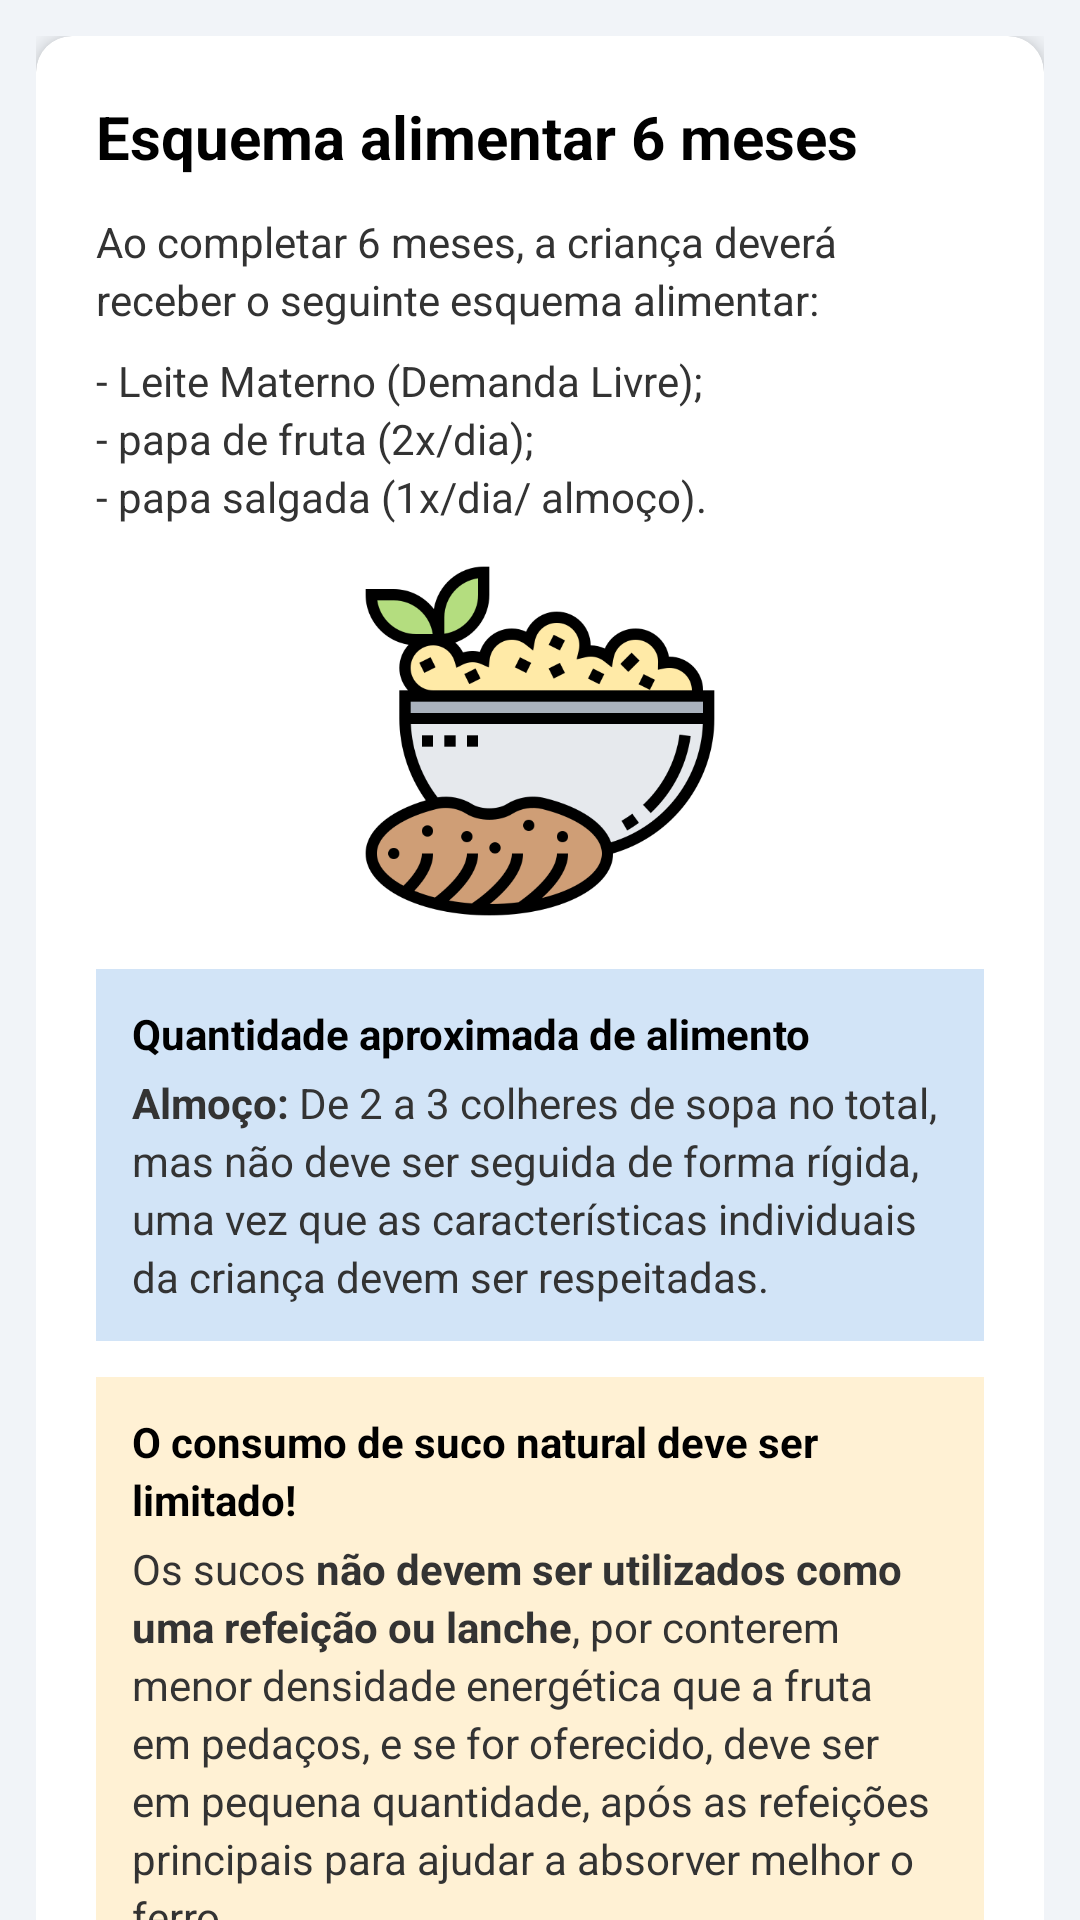

Named icons in this screenshot (1080px x 1920px) and their centers, [x,y]:
Imagem de comida: [540,741]
